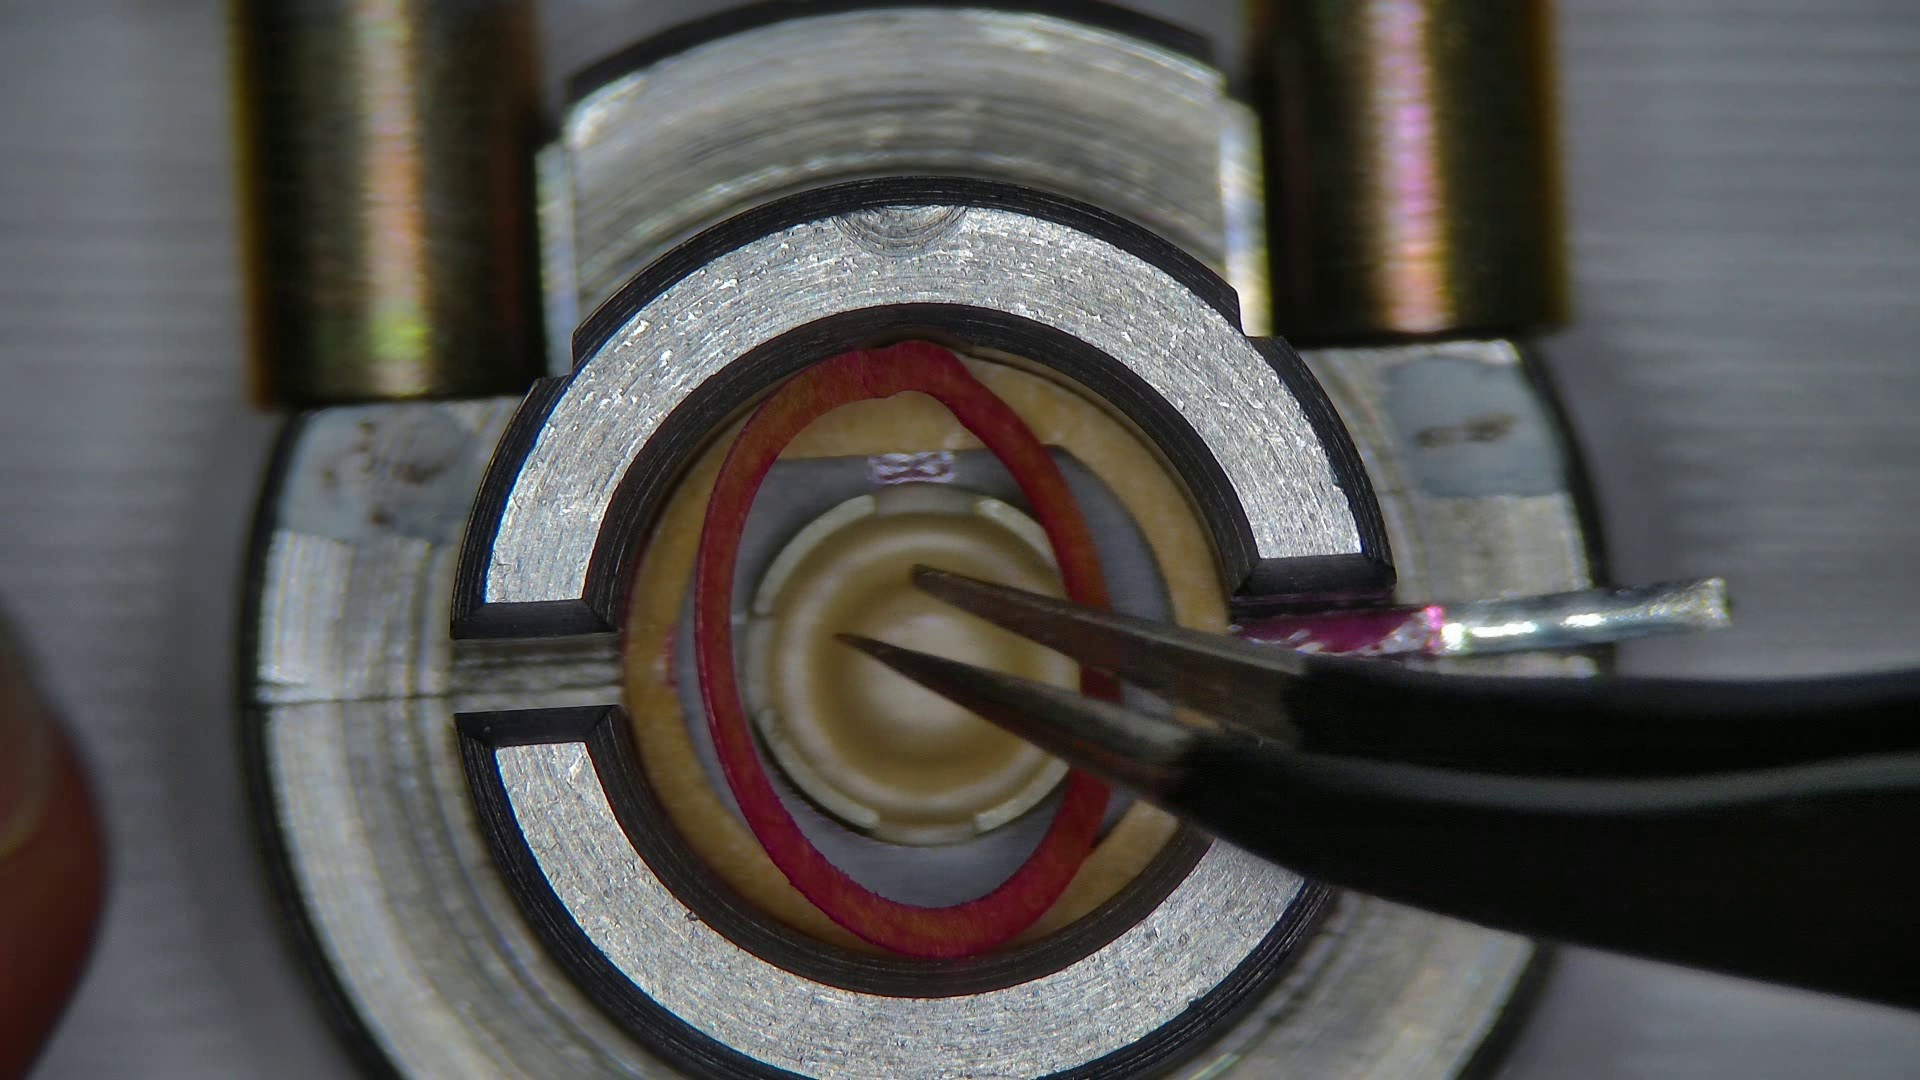GreyOring: (700, 340, 1112, 957), (1081, 666, 1120, 702)
YellowOring: (733, 448, 1058, 905), (1060, 450, 1171, 622), (674, 595, 742, 818), (1120, 679, 1176, 717), (1101, 779, 1139, 829)
redOring: (626, 439, 851, 947), (971, 356, 1222, 626), (1038, 803, 1170, 934), (778, 389, 986, 456)
